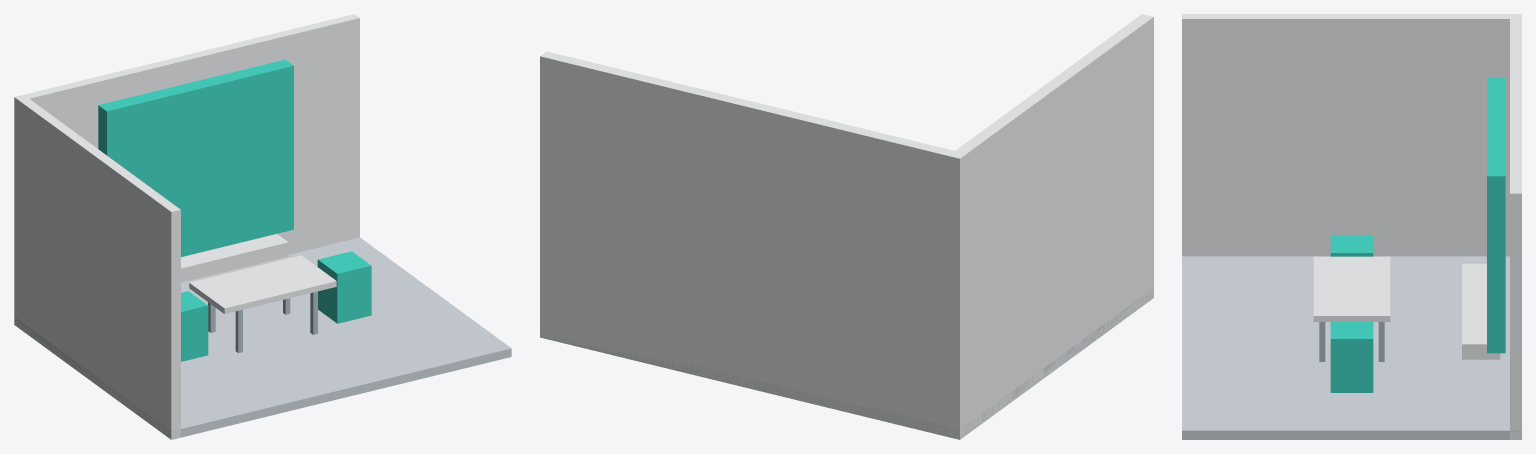
3 renders of one model, left to right at view 1: azimuth 30°, elevation 25°; view 2: azimuth 150°, elevation 25°; view 3: azimuth 270°, elevation 25°, orthographic. The views are drawn at different scales.
Parts seen in each view (by area): view 1: Exhibition Booth Concept; view 2: Exhibition Booth Concept; view 3: Exhibition Booth Concept.
Boxes of the visible parts, <box> form: Exhibition Booth Concept: <box>14,14,511,439</box>; Exhibition Booth Concept: <box>540,14,1153,439</box>; Exhibition Booth Concept: <box>1182,14,1521,439</box>.
Bounding box in the file's own units: 5 × 3.2 × 4.
